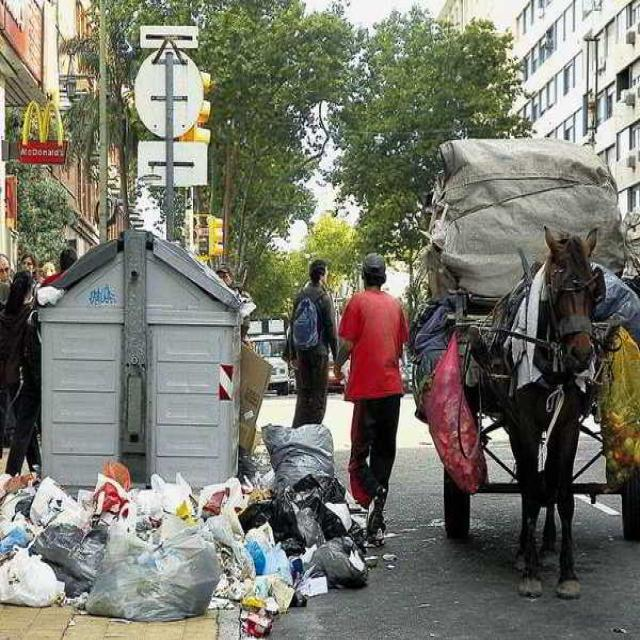garbage: (0, 458, 365, 624), (260, 418, 346, 481), (36, 284, 70, 306)
